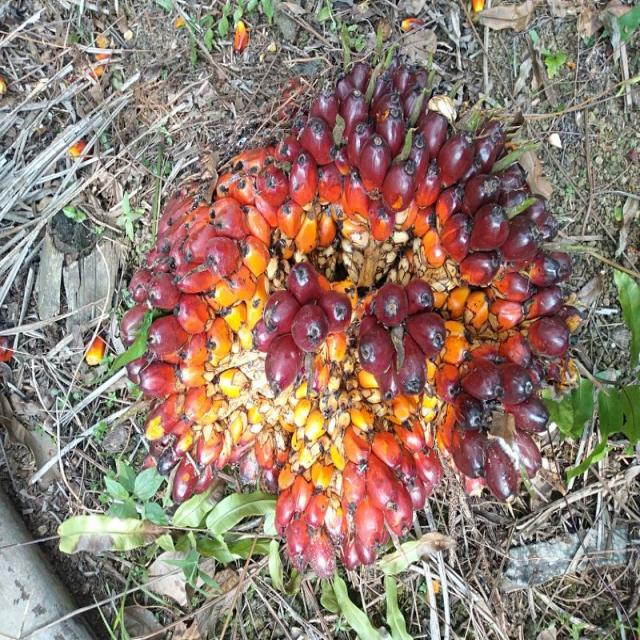fraksi 3: (81, 14, 599, 580)
